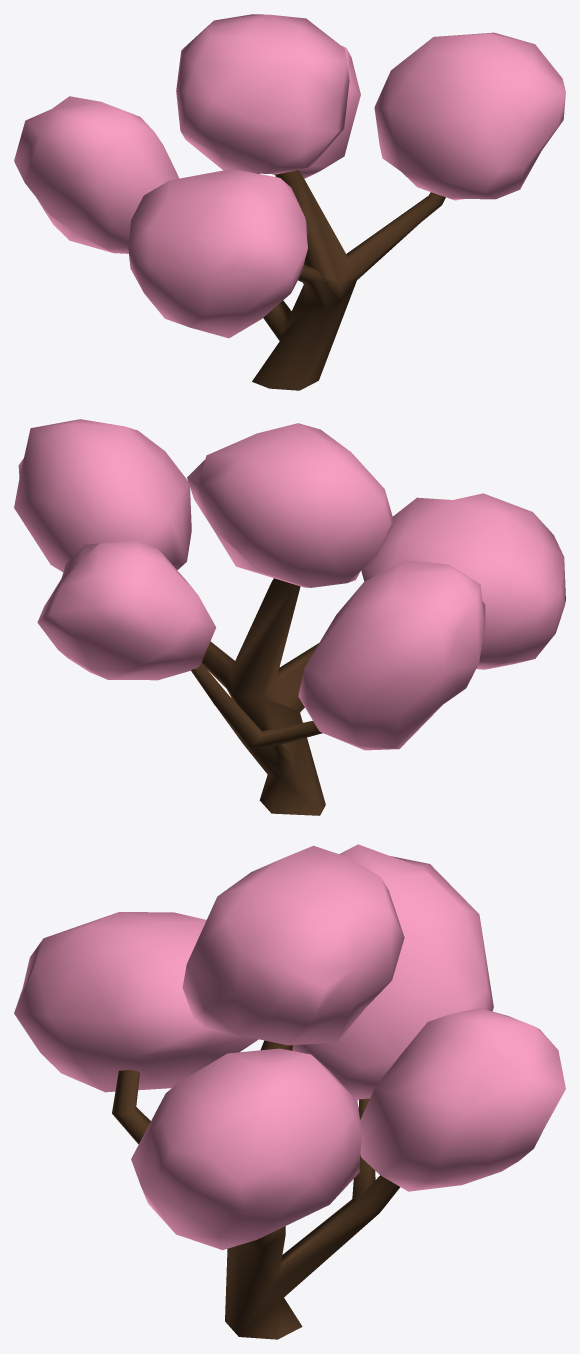
Rendered from Tree_9.fbx.
The picture shows the model from 3 angles, top to bottom: view 1: azimuth 30°, elevation 25°; view 2: azimuth 150°, elevation 25°; view 3: azimuth 270°, elevation 25°; orthographic projection. The views are drawn at different scales.
Visible parts, largest first — view 1: Tree_9; view 2: Tree_9; view 3: Tree_9.
Part boxes in pixels (left/top/right/bottom): Tree_9: left=14, top=14, right=565, bottom=390; Tree_9: left=14, top=419, right=565, bottom=815; Tree_9: left=14, top=844, right=565, bottom=1339.
Size of the model in its own units: 433 by 300 by 338.
